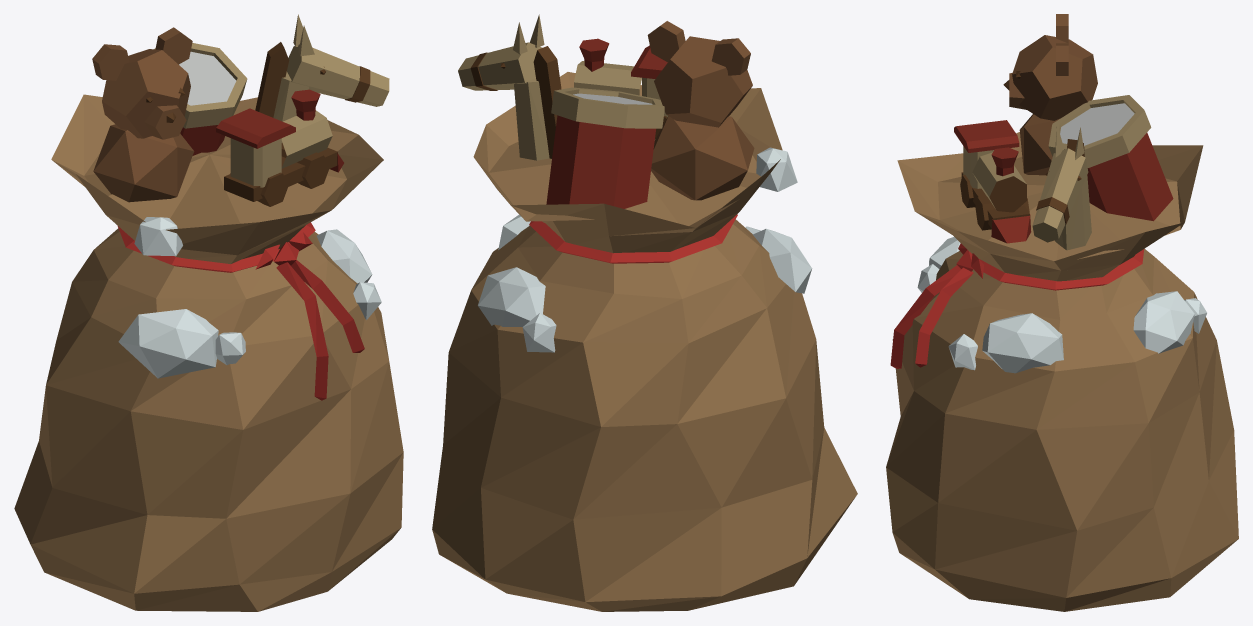
The model's file is home_toys.glb.
3 views of the same model, side by side, from view 1: azimuth 30°, elevation 25°; view 2: azimuth 150°, elevation 25°; view 3: azimuth 270°, elevation 25° (orthographic). The views are drawn at different scales.
Parts seen in each view (by area): view 1: sack-of-toys-body, cord-tails-mesh; view 2: sack-of-toys-body; view 3: sack-of-toys-body, cord-tails-mesh.
Part boxes in pixels (x1,y1,x2,y2): sack-of-toys-body: (14,14,403,611); cord-tails-mesh: (276,260,364,400); sack-of-toys-body: (432,14,857,611); sack-of-toys-body: (886,14,1238,611); cord-tails-mesh: (890,265,973,368).
Size of the model in its own units: 0.7627 by 1.07 by 0.7165.
